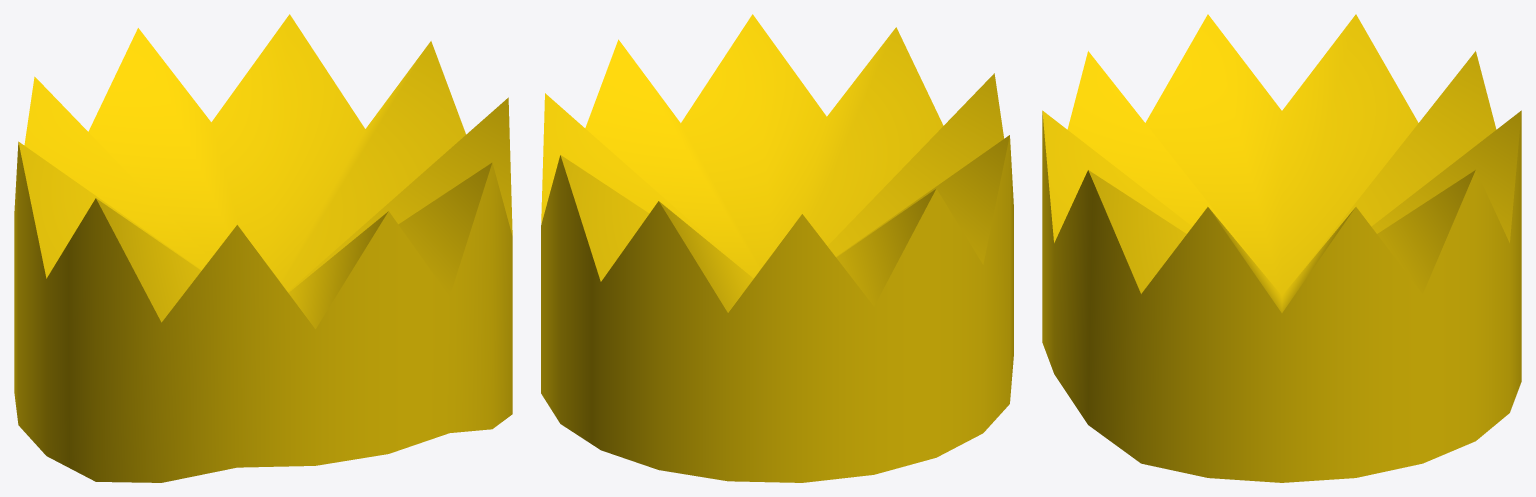
The model's file is Crown.fbx.
3 renders of one model, left to right at view 1: azimuth 30°, elevation 25°; view 2: azimuth 150°, elevation 25°; view 3: azimuth 270°, elevation 25°, orthographic. The views are drawn at different scales.
Parts seen in each view (by area): view 1: Crown; view 2: Crown; view 3: Crown.
Boxes of the visible parts, x1,y1,x2,y2 form: Crown: [14, 14, 512, 482]; Crown: [541, 14, 1013, 482]; Crown: [1042, 14, 1521, 482].
Size of the model in its own units: 1.6 by 1 by 1.6.
